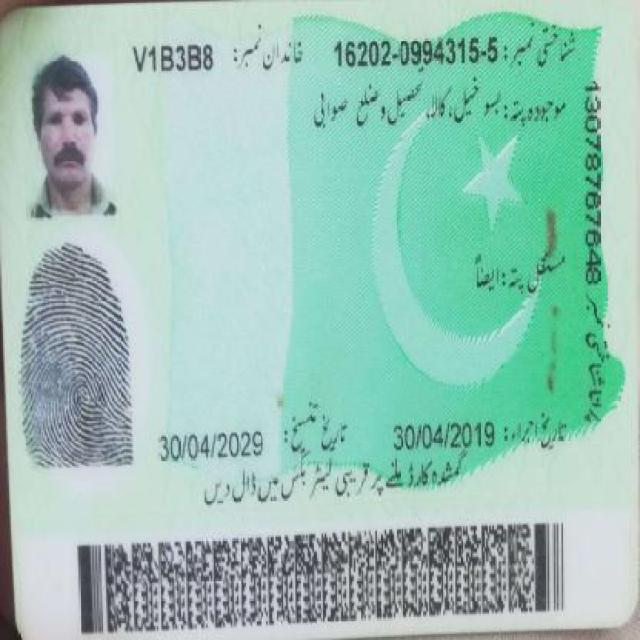Back: (11, 8, 631, 630)
